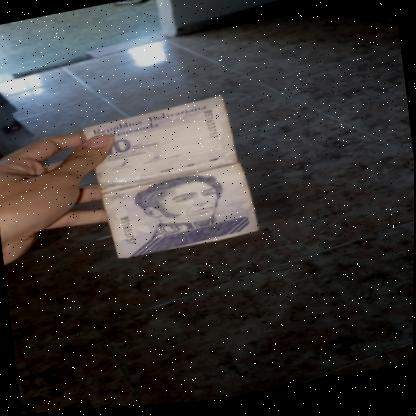ten-front-vef: (81, 91, 261, 268)
